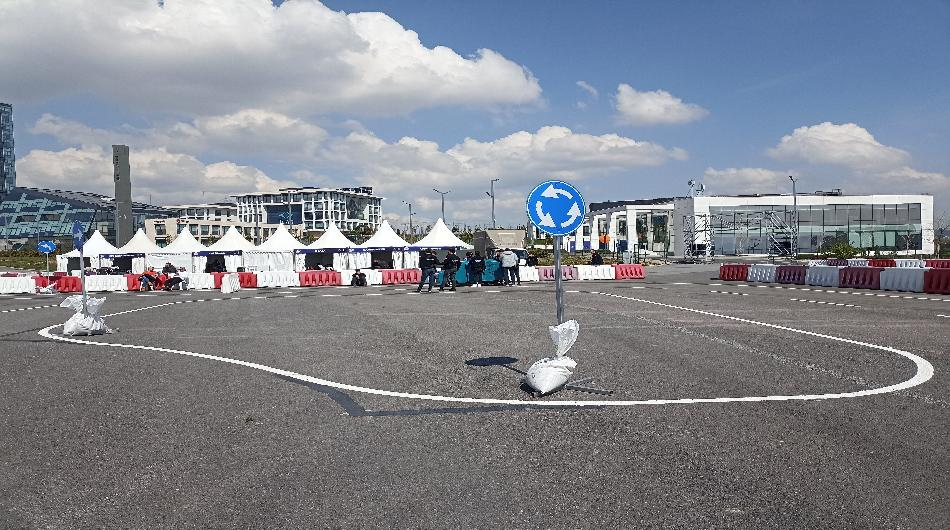ada: (524, 181, 583, 235)
